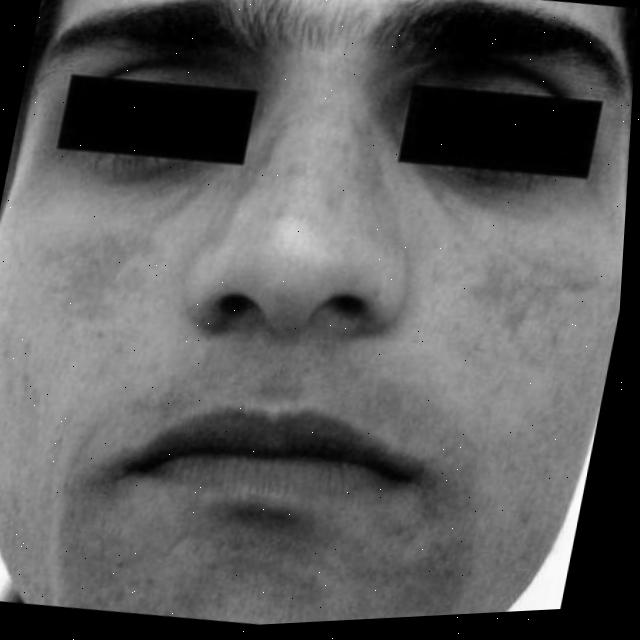Melasma: (449, 216, 595, 361), (28, 190, 174, 330)
